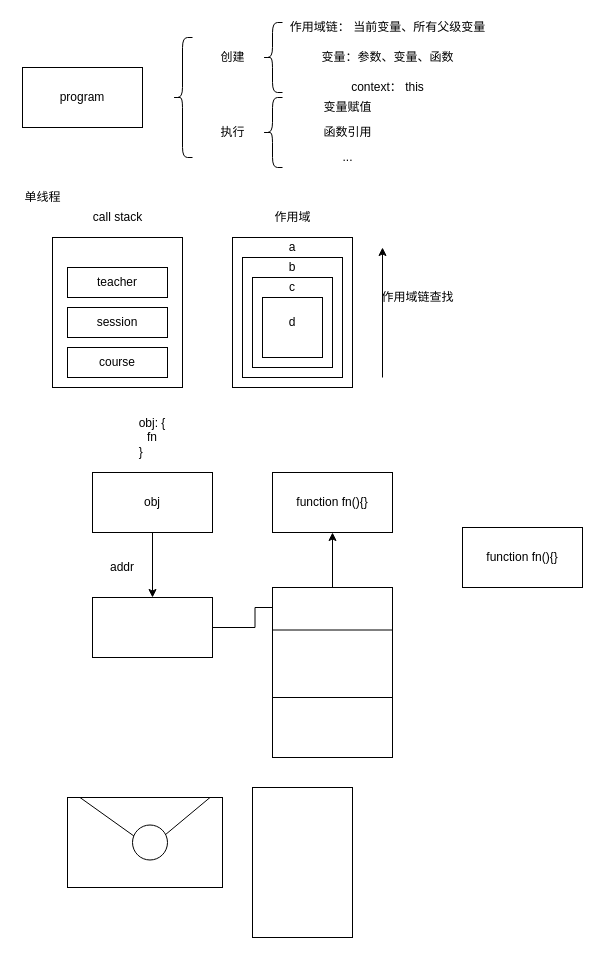
Some shapes in this 600 by 955 pixel diagram are drawn without their labels. The box of each missing label's shape, as (x1, y1, x2, y2) in pixels:
fn: (92, 596, 212, 658)
let a = 1;: (252, 786, 352, 938)
value: addr: (272, 586, 392, 758)
